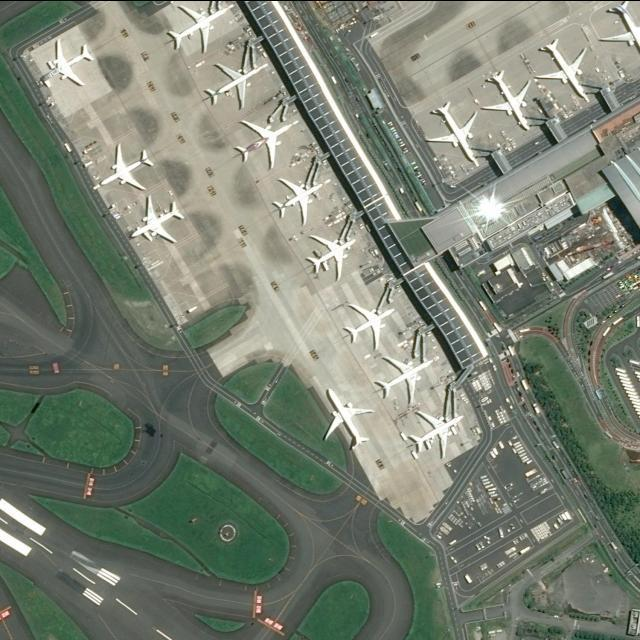Aircraft: (168, 2, 232, 56), (426, 98, 476, 166), (236, 116, 296, 170), (320, 390, 372, 452), (540, 40, 588, 106), (481, 71, 531, 134), (204, 61, 265, 109), (598, 0, 640, 69), (377, 353, 433, 403), (129, 196, 183, 246), (98, 144, 154, 192), (43, 38, 94, 90), (412, 409, 464, 460), (344, 302, 395, 352), (307, 230, 357, 280), (274, 175, 326, 223)
